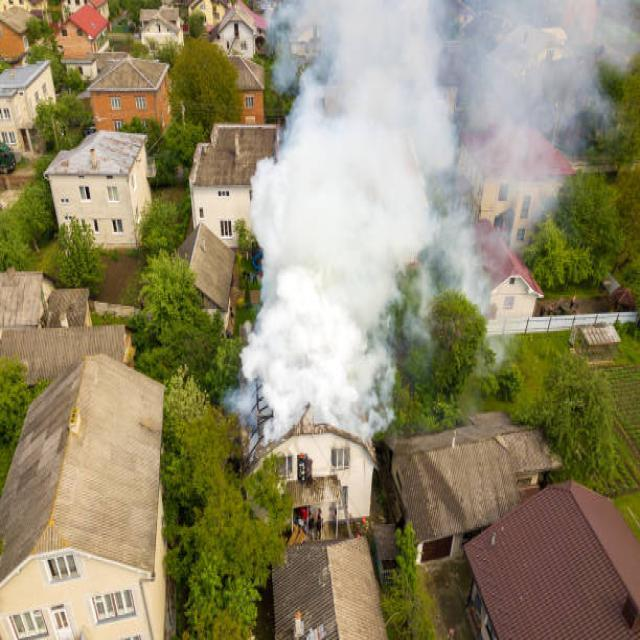Smoke: (254, 0, 412, 422), (412, 0, 632, 220)
